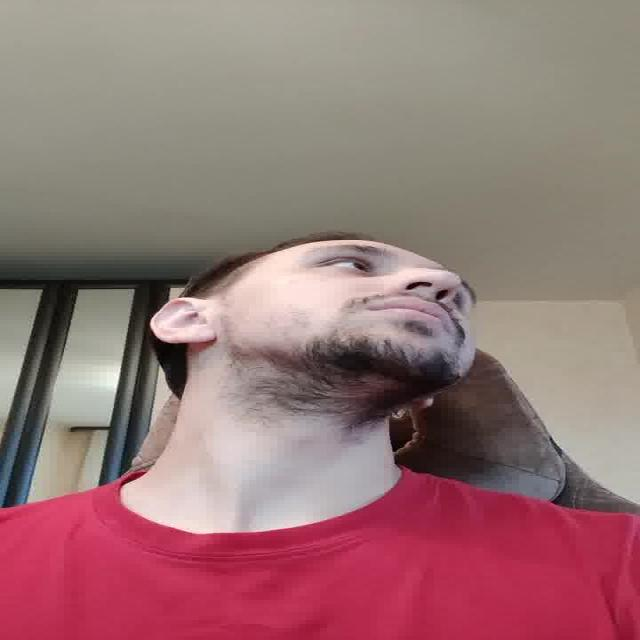earlobe: (172, 332, 215, 344), (411, 396, 437, 409)
eye: (316, 256, 377, 277)
nose: (394, 285, 452, 307)
wholeear: (150, 297, 216, 344)
